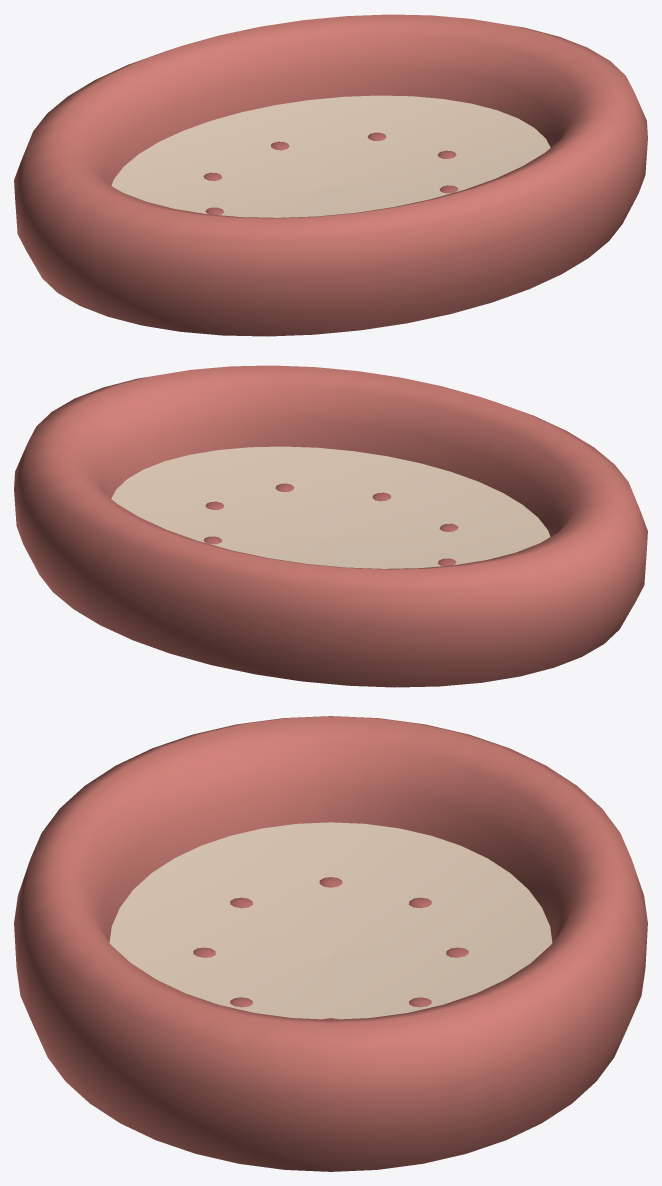
The model's file is bed.glb.
3 views of the same model, one above another, from view 1: azimuth 30°, elevation 25°; view 2: azimuth 150°, elevation 25°; view 3: azimuth 270°, elevation 25° (orthographic). The views are drawn at different scales.
Parts seen in each view (by area): view 1: Bed; view 2: Bed; view 3: Bed.
Boxes of the visible parts, x1,y1,x2,y2 form: Bed: [14, 14, 647, 336]; Bed: [14, 365, 647, 687]; Bed: [14, 716, 647, 1171].
Bounding box in the file's own units: 0.5 × 0.09 × 0.38.
